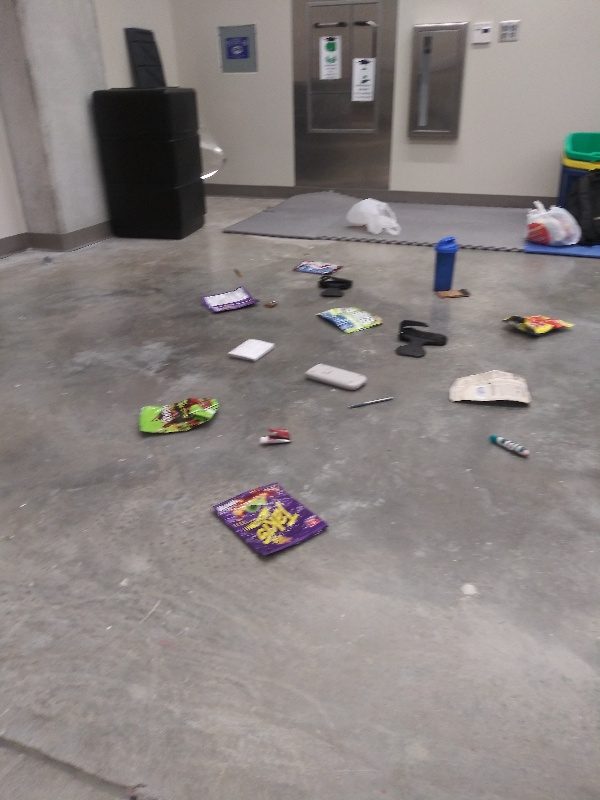bag: (208, 478, 334, 562), (134, 394, 220, 440), (447, 367, 536, 411), (311, 303, 387, 336), (498, 311, 578, 340), (196, 285, 261, 315), (290, 257, 346, 277)
